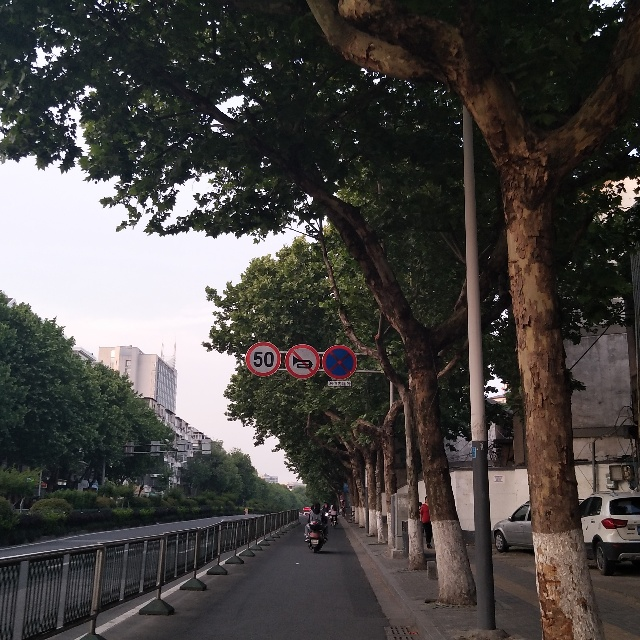nohonk: (286, 341, 318, 377)
stop: (324, 345, 358, 383)
